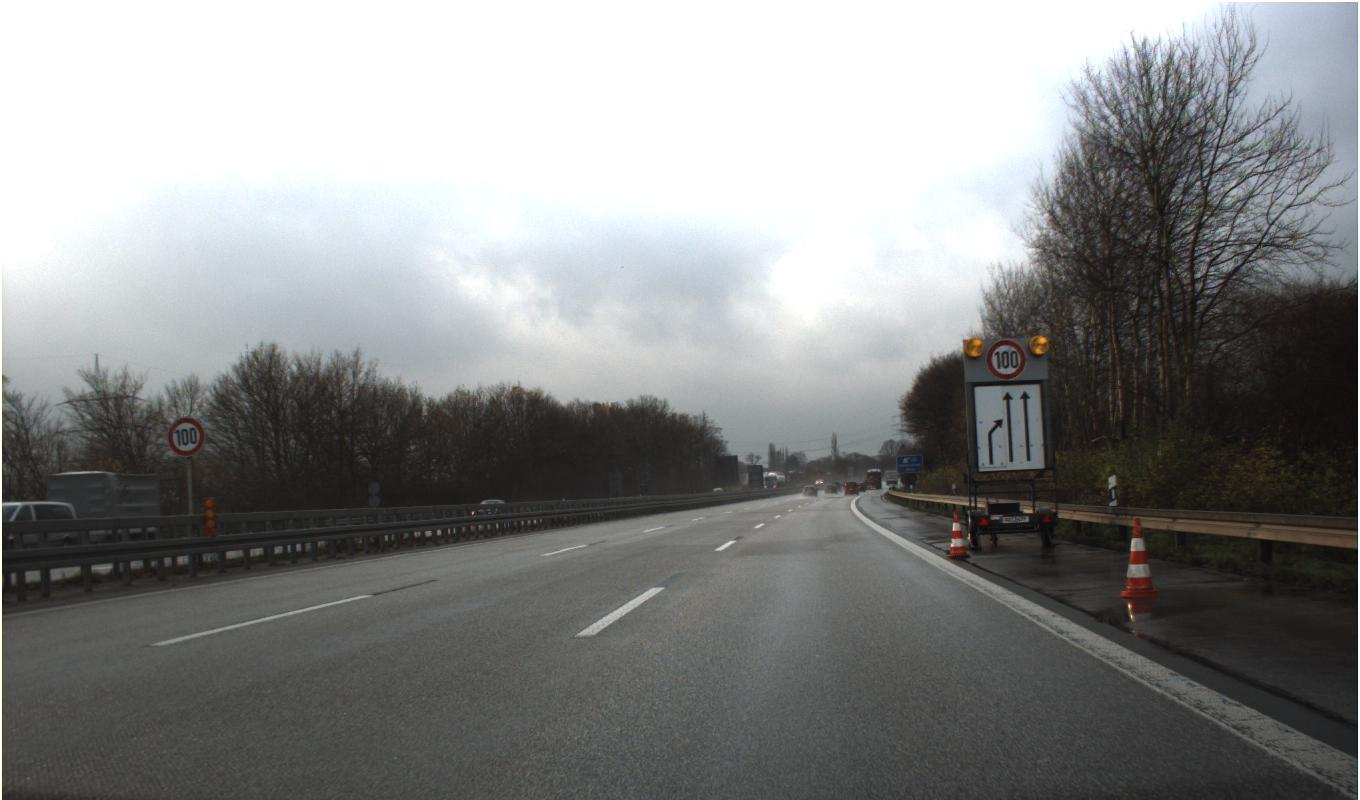prohibitory: (985, 339, 1026, 380), (166, 415, 205, 455)
